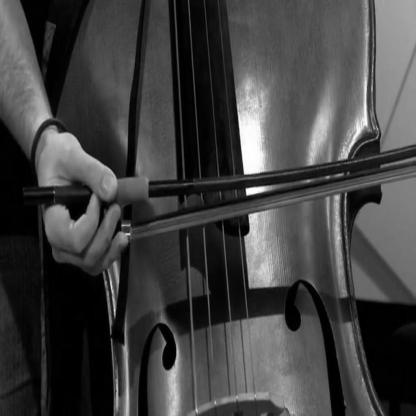bad: (25, 115, 140, 287)
